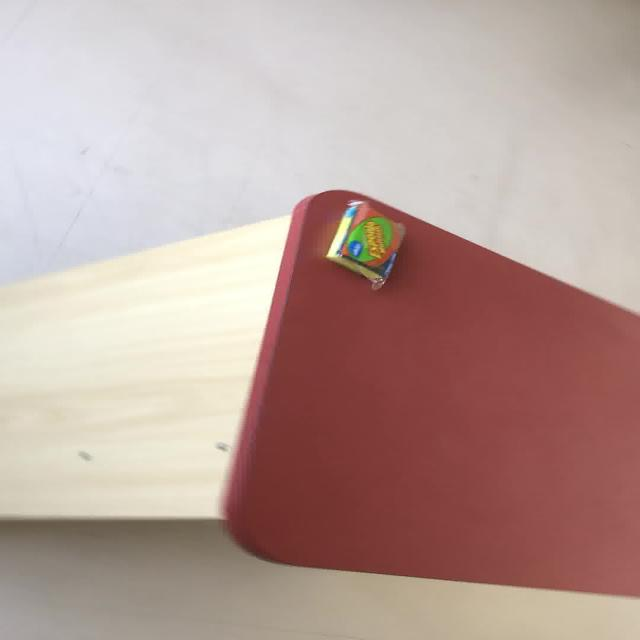sponge: (220, 188, 638, 596), (323, 199, 405, 290)
